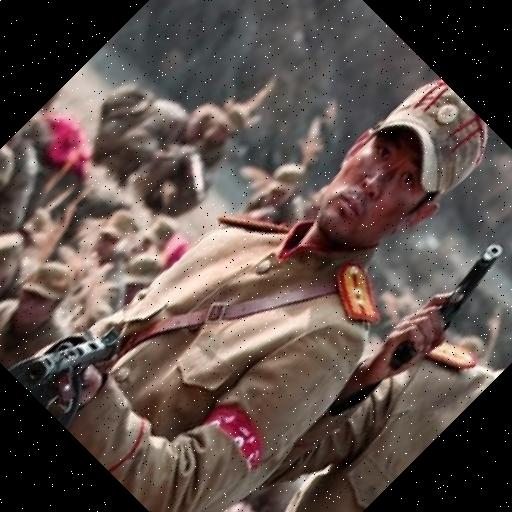north army: (165, 46, 447, 499)
